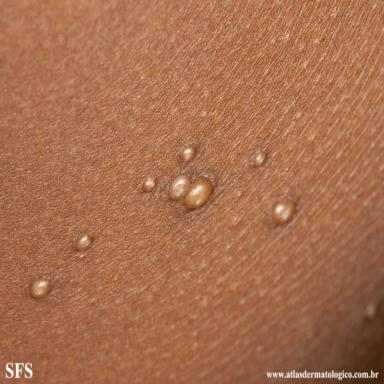Molluscum-Contagiosum: (168, 174, 214, 210), (272, 197, 295, 225), (29, 277, 51, 299), (74, 233, 94, 251), (179, 145, 197, 161), (142, 176, 156, 192), (253, 152, 266, 167)
